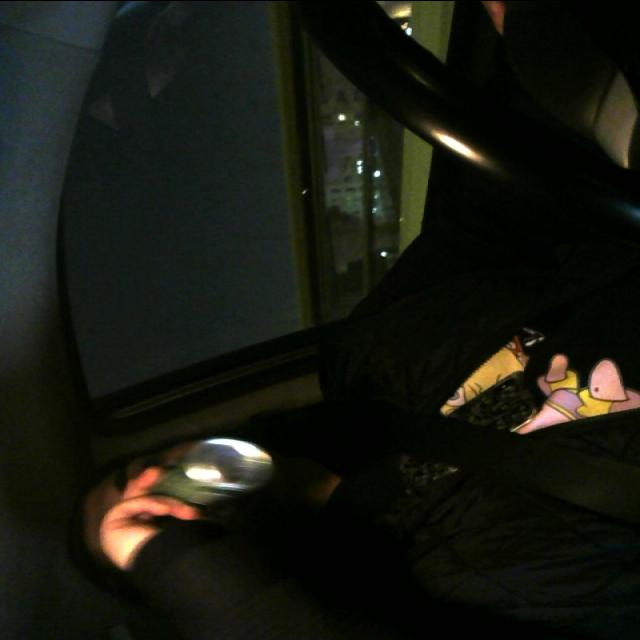drinking: (134, 436, 276, 527)
